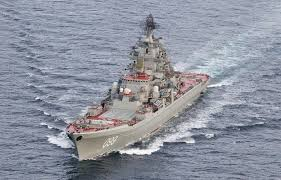tau_muctieu: (64, 28, 213, 159)
